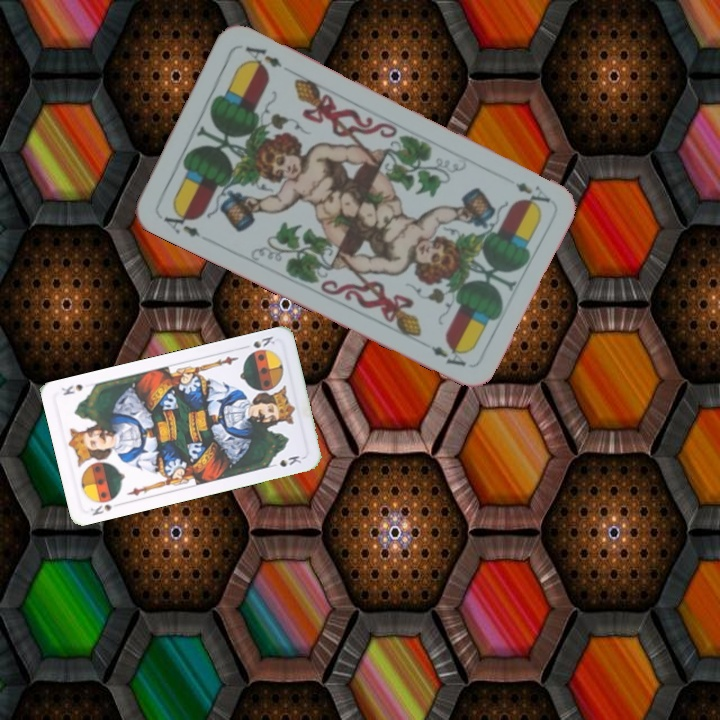EA: (160, 205, 203, 240), (511, 178, 554, 206)
SK: (238, 332, 277, 351), (86, 500, 116, 518)
